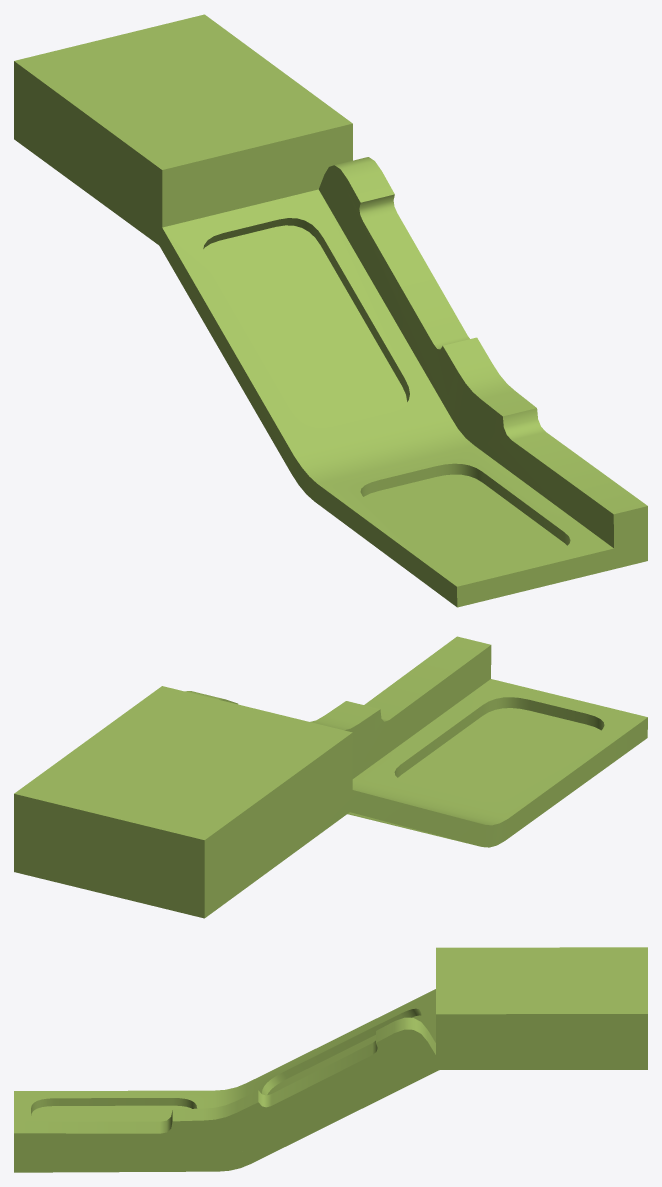
The model's file is UnderFloor_A_Small.FBX.
3 renders of one model, top to bottom at view 1: azimuth 30°, elevation 25°; view 2: azimuth 150°, elevation 25°; view 3: azimuth 270°, elevation 25°, orthographic. The views are drawn at different scales.
Parts seen in each view (by area): view 1: UnderFloor_A_Small; view 2: UnderFloor_A_Small; view 3: UnderFloor_A_Small.
Boxes of the visible parts, left/top/right/bottom form: UnderFloor_A_Small: left=14, top=14, right=647, bottom=607; UnderFloor_A_Small: left=14, top=636, right=647, bottom=918; UnderFloor_A_Small: left=14, top=947, right=647, bottom=1172.
Bounding box in the file's own units: 99.48 × 111 × 400.
